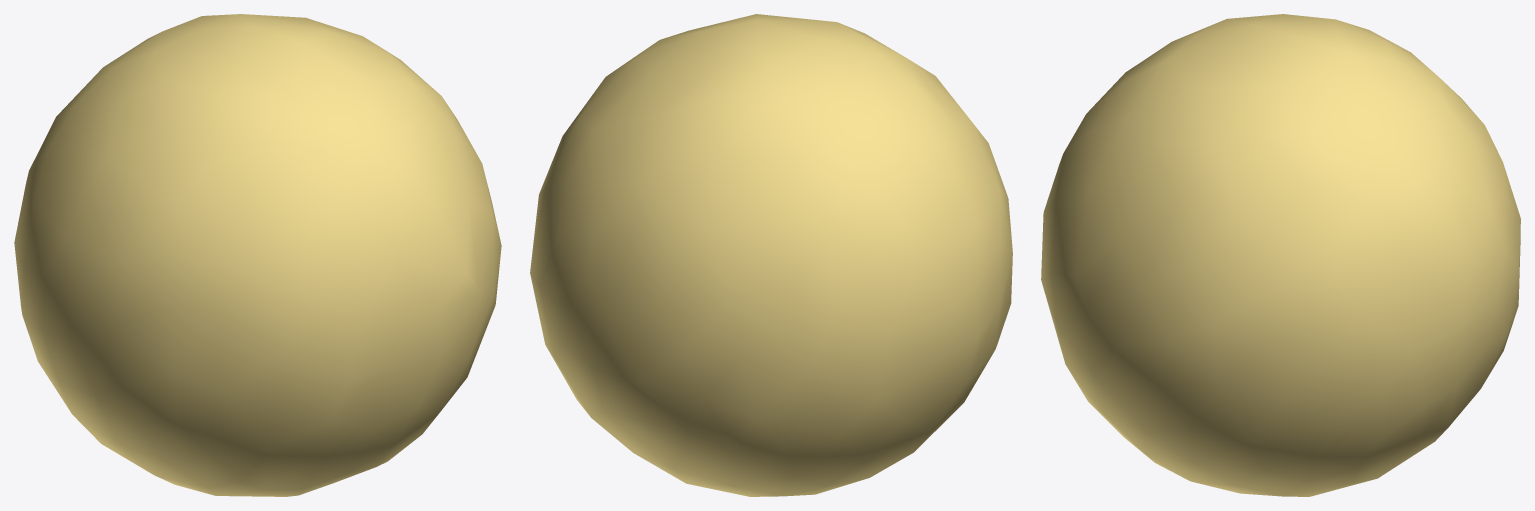
File: fma77532-l_mm2597.glb
The picture shows the model from 3 angles, left to right: view 1: azimuth 30°, elevation 25°; view 2: azimuth 150°, elevation 25°; view 3: azimuth 270°, elevation 25°; orthographic projection.
Parts seen in each view (by area): view 1: FMA77532-L_MM2597; view 2: FMA77532-L_MM2597; view 3: FMA77532-L_MM2597.
Part boxes in pixels (left/top/right/bottom): FMA77532-L_MM2597: left=14, top=14, right=501, bottom=496; FMA77532-L_MM2597: left=530, top=14, right=1012, bottom=496; FMA77532-L_MM2597: left=1041, top=14, right=1520, bottom=496.
Size of the model in its own units: 0.0021 by 0.0021 by 0.00209.
